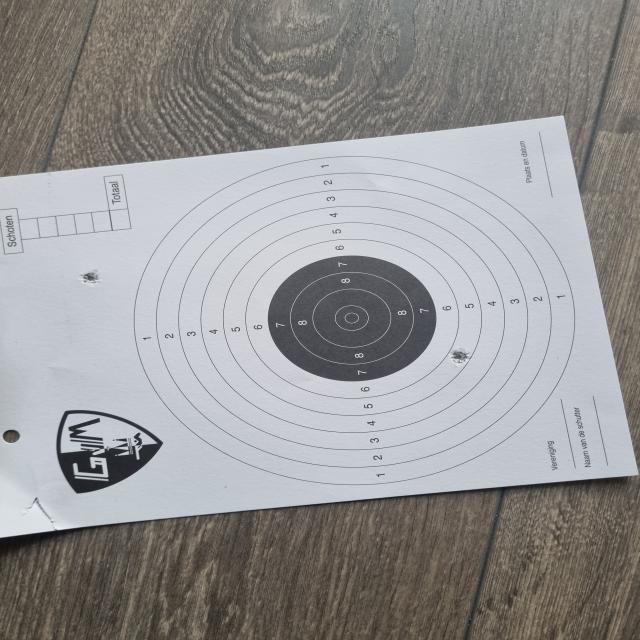6: (449, 348, 470, 366)
Black Contour: (268, 255, 436, 382)
Target: (133, 156, 577, 487)
hole: (81, 267, 102, 285)
